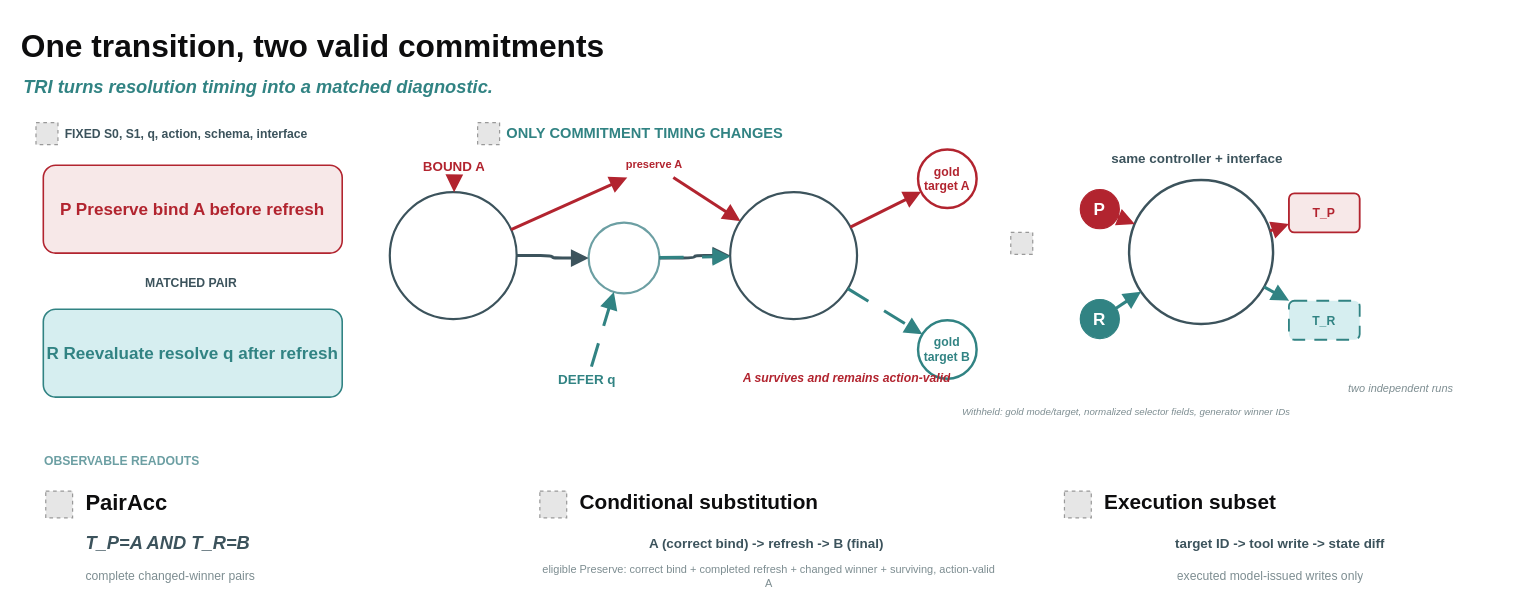
This 1525x611 diagram has some shape labels left out. Grey dashed boxes stand in for pictures. Here are the shapes that lost their labels. From the top down, the centre of each, then its label:
At point 452,255: "S0 q(S0)=A A selected".
At point 623,257: "refresh".
At point 793,255: "S1 q(S1)=B A survives + valid".
At point 1200,251: "PROBE controller black box instruction + history + observed state -> target ID".
